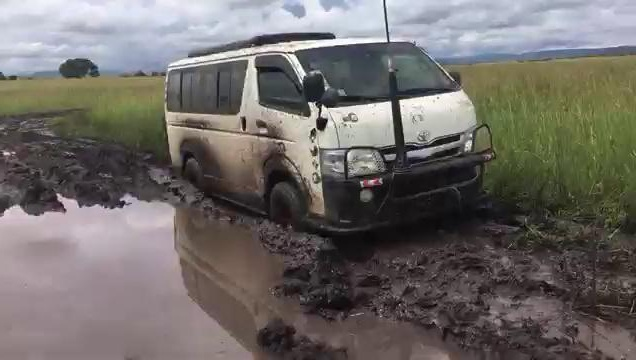van: (151, 32, 492, 228)
